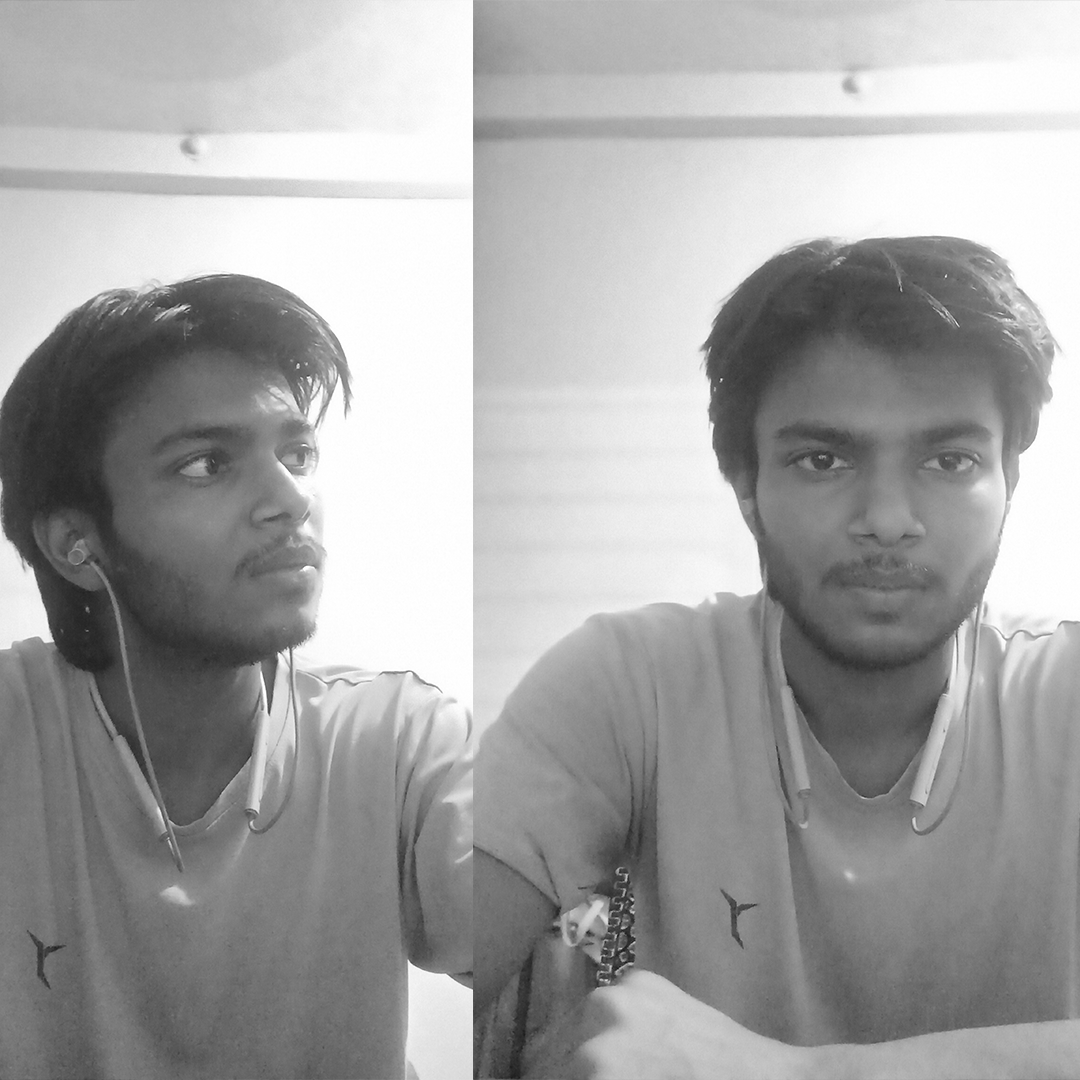Focused: (574, 208, 1070, 1025)
distracted: (22, 192, 502, 1028)
